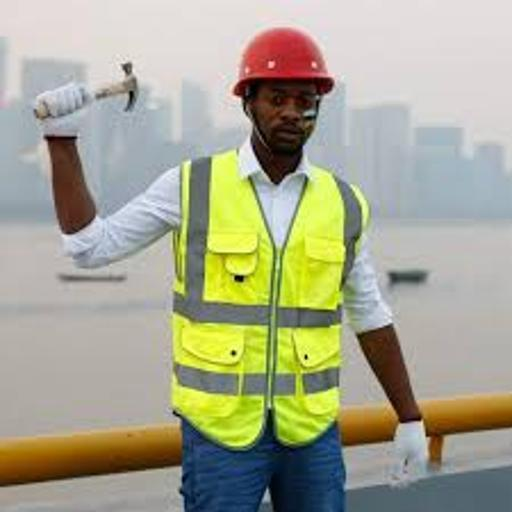Hard_hat: (220, 29, 350, 91)
Humans: (22, 82, 440, 512)
Vest: (167, 131, 372, 455)
Visor: (258, 87, 330, 122)
